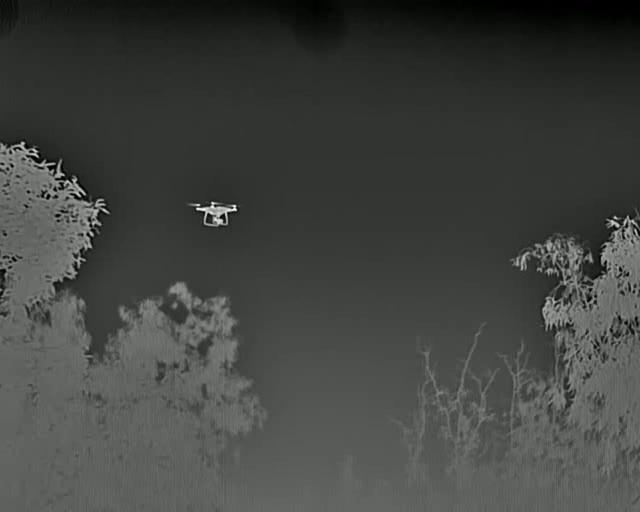DJI-Phantom: (184, 196, 242, 233)
